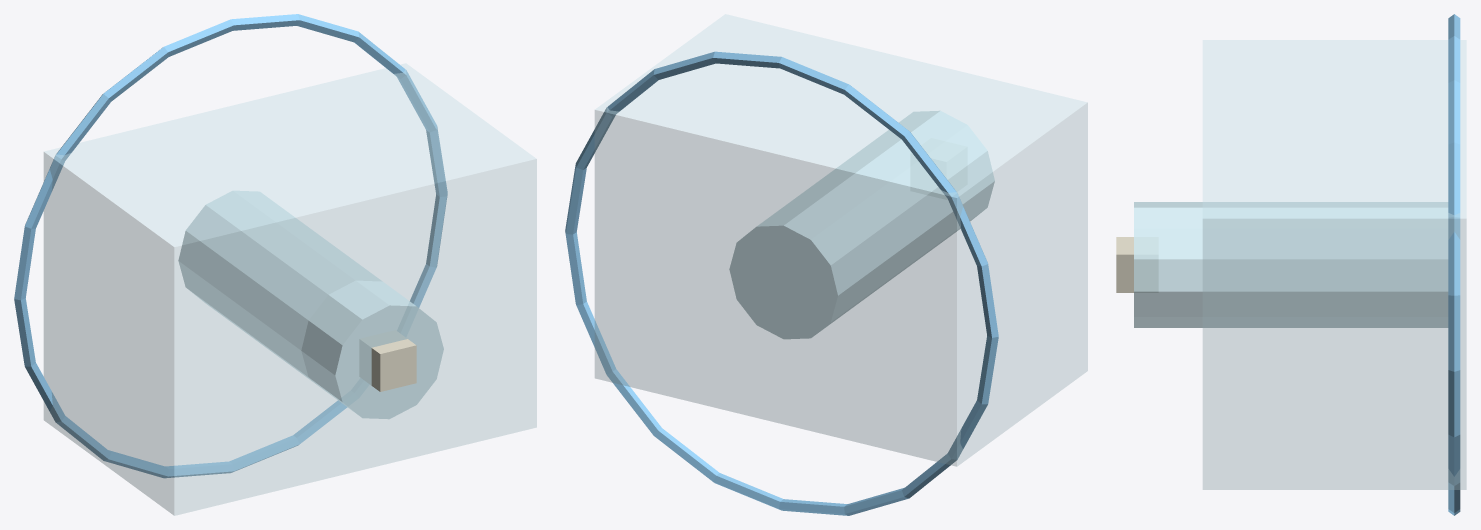
File: 04_lod_collision_overlay_4.glb
3 views of the same model, side by side, from view 1: azimuth 30°, elevation 25°; view 2: azimuth 150°, elevation 25°; view 3: azimuth 270°, elevation 25° (orthographic).
Visible parts, largest first — view 1: lod_proxy_box, capsule_hint_center, bounds_ring_floor, pivot_marker; view 2: lod_proxy_box, capsule_hint_center, bounds_ring_floor; view 3: lod_proxy_box, capsule_hint_center, bounds_ring_floor, pivot_marker.
Boxes of the visible parts, box(x1,y1,x2,y2) form: lod_proxy_box: box(44, 63, 536, 515); capsule_hint_center: box(178, 190, 443, 419); bounds_ring_floor: box(14, 14, 447, 478); pivot_marker: box(360, 330, 416, 391); lod_proxy_box: box(595, 14, 1087, 466); capsule_hint_center: box(729, 110, 994, 339); bounds_ring_floor: box(565, 51, 998, 515); lod_proxy_box: box(1203, 40, 1466, 489); capsule_hint_center: box(1134, 202, 1448, 327); bounds_ring_floor: box(1448, 14, 1460, 515); pivot_marker: box(1116, 237, 1157, 292).
Size of the model in its own units: 1.44 by 1.44 by 0.995.
